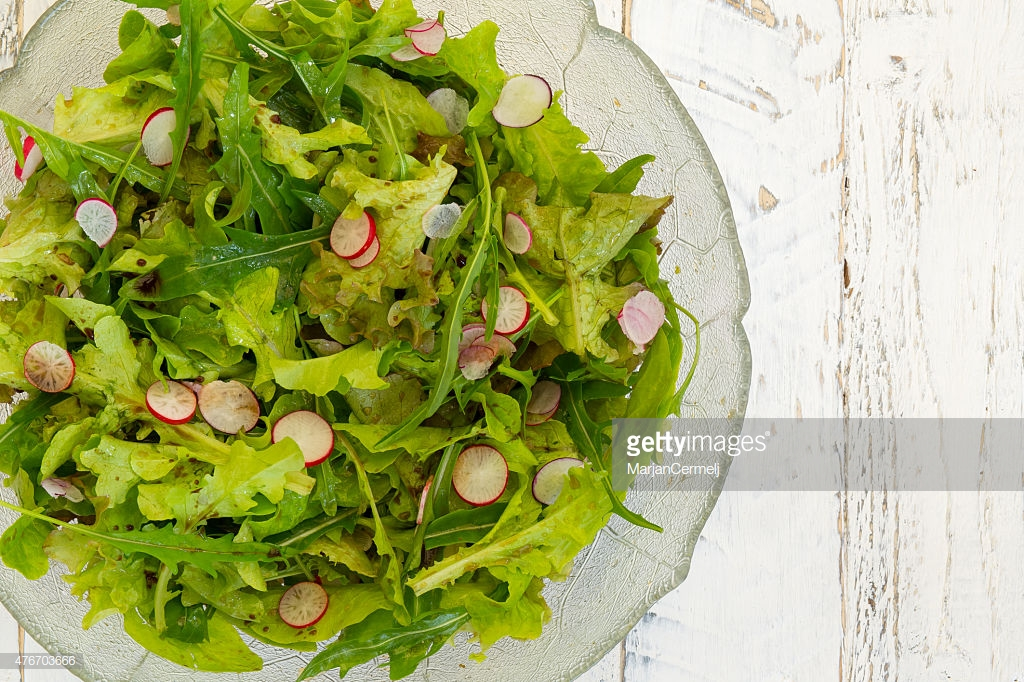chopped lettuce: (96, 123, 514, 605)
